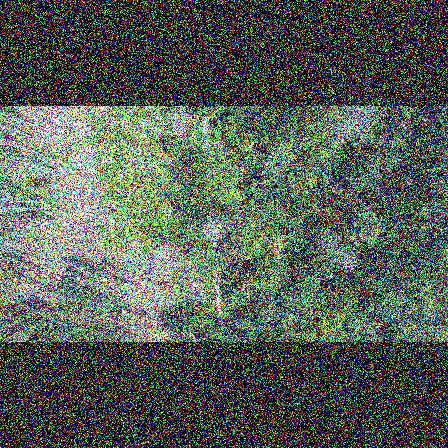Dead: (310, 226, 362, 274), (326, 105, 378, 148), (200, 213, 231, 245)
